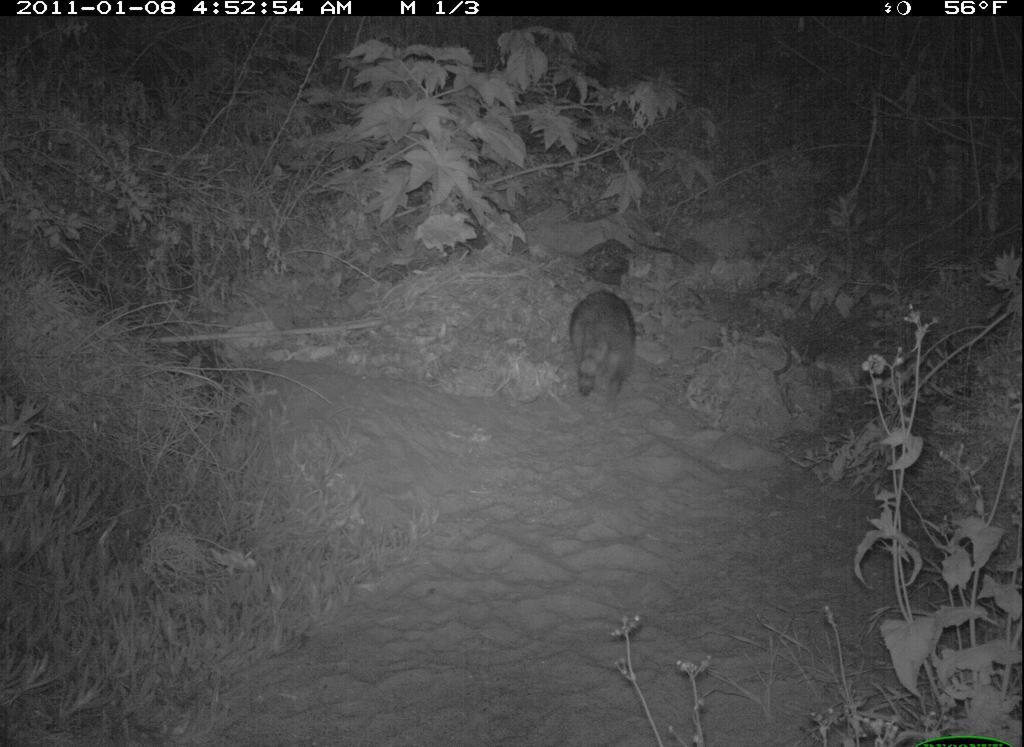raccoon: (565, 286, 648, 405)
